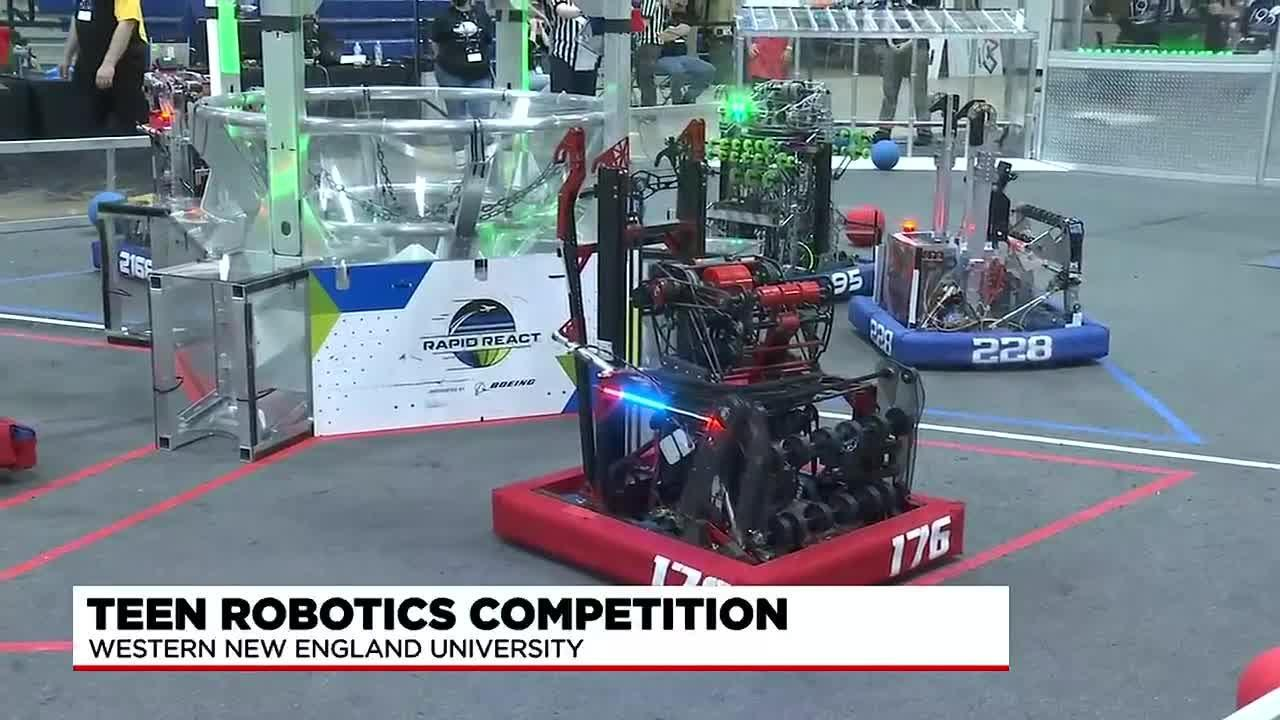robot: (488, 117, 967, 584), (851, 91, 1117, 368), (647, 79, 877, 300), (94, 55, 226, 286), (0, 393, 46, 495)
